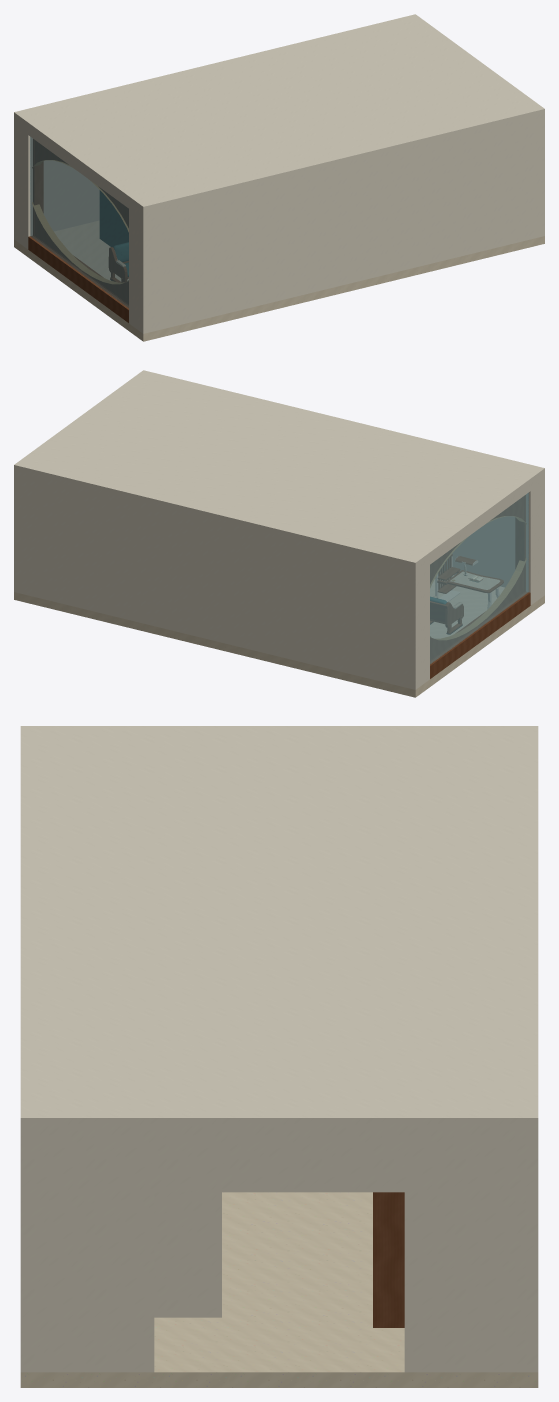
Rendered from QuietGroveBank_135_r001.glb.
3 views of the same model, one above another, from view 1: azimuth 30°, elevation 25°; view 2: azimuth 150°, elevation 25°; view 3: azimuth 270°, elevation 25° (orthographic). The views are drawn at different scales.
Parts seen in each view (by area): view 1: QG135_Ceiling, QG135_SouthSide, QGB135_PrivateCourtGlass, QG135_RoomFloor, QG135_NorthSide, QGB135_CourtSouthPier, QGB135_CourtNorthPier, QGB135_CourtSill, QG135_OvalWindowReveal, QG135_Cocoon_RearLiner, QG135_OvalDepthReturn, QGB135_CourtHeader (+1 smaller); view 2: QG135_Ceiling, QG135_NorthSide, QGB135_PrivateCourtGlass, QG135_RoomFloor, QG135_SouthSide, QGB135_CourtNorthPier, QGB135_CourtSouthPier, QGB135_CourtSill, QG135_OvalWindowReveal, QG135_OvalDepthReturn, QGB135_CourtHeader, QGB135_DeepReveal_-446.2 (+1 smaller); view 3: QG135_Ceiling, QG135_RoomFloor, QG135_EntryShoulderNorth, QG135_EntryShoulderSouth, QG135_EntryHeader, QG135_WashEntrySide, QG135_EntryPrivacyDogleg, QG135_NorthSide, QG135_SouthSide.
Part boxes in pixels (x1,y1,x2,y2): QG135_Ceiling: (14, 14, 544, 211); QG135_SouthSide: (141, 114, 544, 333); QGB135_PrivateCourtGlass: (30, 136, 128, 308); QG135_RoomFloor: (14, 221, 544, 341); QG135_NorthSide: (14, 118, 99, 240); QGB135_CourtSouthPier: (129, 202, 150, 333); QGB135_CourtNorthPier: (14, 118, 32, 249); QGB135_CourtSill: (28, 236, 128, 322); QG135_OvalWindowReveal: (35, 140, 128, 304); QG135_Cocoon_RearLiner: (101, 192, 128, 246); QG135_OvalDepthReturn: (32, 160, 128, 283); QGB135_CourtHeader: (28, 128, 128, 208); QG135_Ceiling: (14, 370, 544, 567); QG135_NorthSide: (14, 470, 417, 689); QGB135_PrivateCourtGlass: (430, 492, 528, 664); QG135_RoomFloor: (14, 575, 544, 697); QG135_SouthSide: (447, 474, 544, 594); QGB135_CourtNorthPier: (408, 558, 429, 689); QGB135_CourtSouthPier: (526, 474, 544, 605); QGB135_CourtSill: (430, 592, 530, 678); QG135_OvalWindowReveal: (430, 496, 523, 660); QG135_OvalDepthReturn: (430, 516, 526, 639); QGB135_CourtHeader: (430, 484, 530, 564); QGB135_DeepReveal_-446.2: (515, 495, 525, 591); QG135_Ceiling: (20, 726, 538, 1128); QG135_RoomFloor: (20, 1192, 538, 1387); QG135_EntryShoulderNorth: (404, 1128, 529, 1372); QG135_EntryShoulderSouth: (29, 1128, 154, 1372); QG135_EntryHeader: (150, 1128, 408, 1192); QG135_WashEntrySide: (154, 1192, 221, 1317); QG135_EntryPrivacyDogleg: (373, 1192, 404, 1327); QG135_NorthSide: (529, 1128, 538, 1372); QG135_SouthSide: (20, 1128, 29, 1372).
Size of the model in its own units: 12.9 by 4.14 by 7.2.
58 materials, 43 textured.
